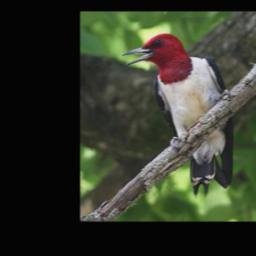Woodpecker: (119, 33, 239, 199)
